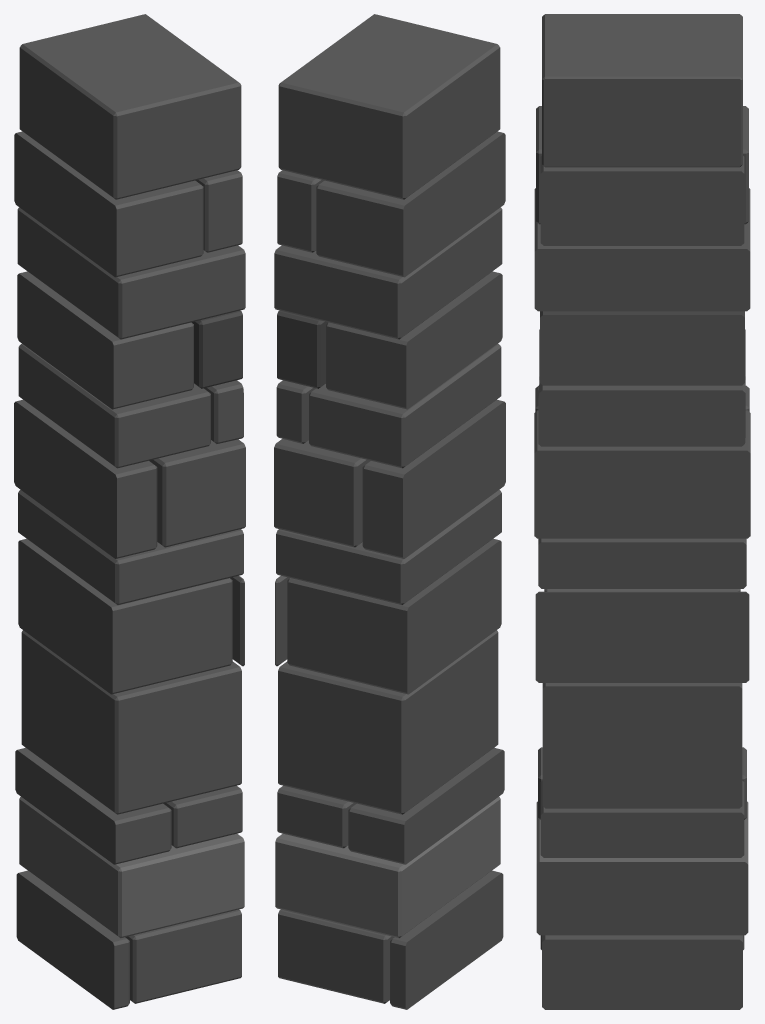
Rendered from wall_corner.fbx.
The picture shows the model from 3 angles, left to right: view 1: azimuth 30°, elevation 25°; view 2: azimuth 150°, elevation 25°; view 3: azimuth 270°, elevation 25°; orthographic projection. The views are drawn at different scales.
Visible parts, largest first — view 1: Wall.002; view 2: Wall.002; view 3: Wall.002.
Part boxes in pixels (x1,y1,x2,y2): Wall.002: [14, 14, 245, 1009]; Wall.002: [274, 14, 505, 1009]; Wall.002: [534, 14, 750, 1009].
Size of the model in its own units: 14.93 by 99.64 by 20.96.
